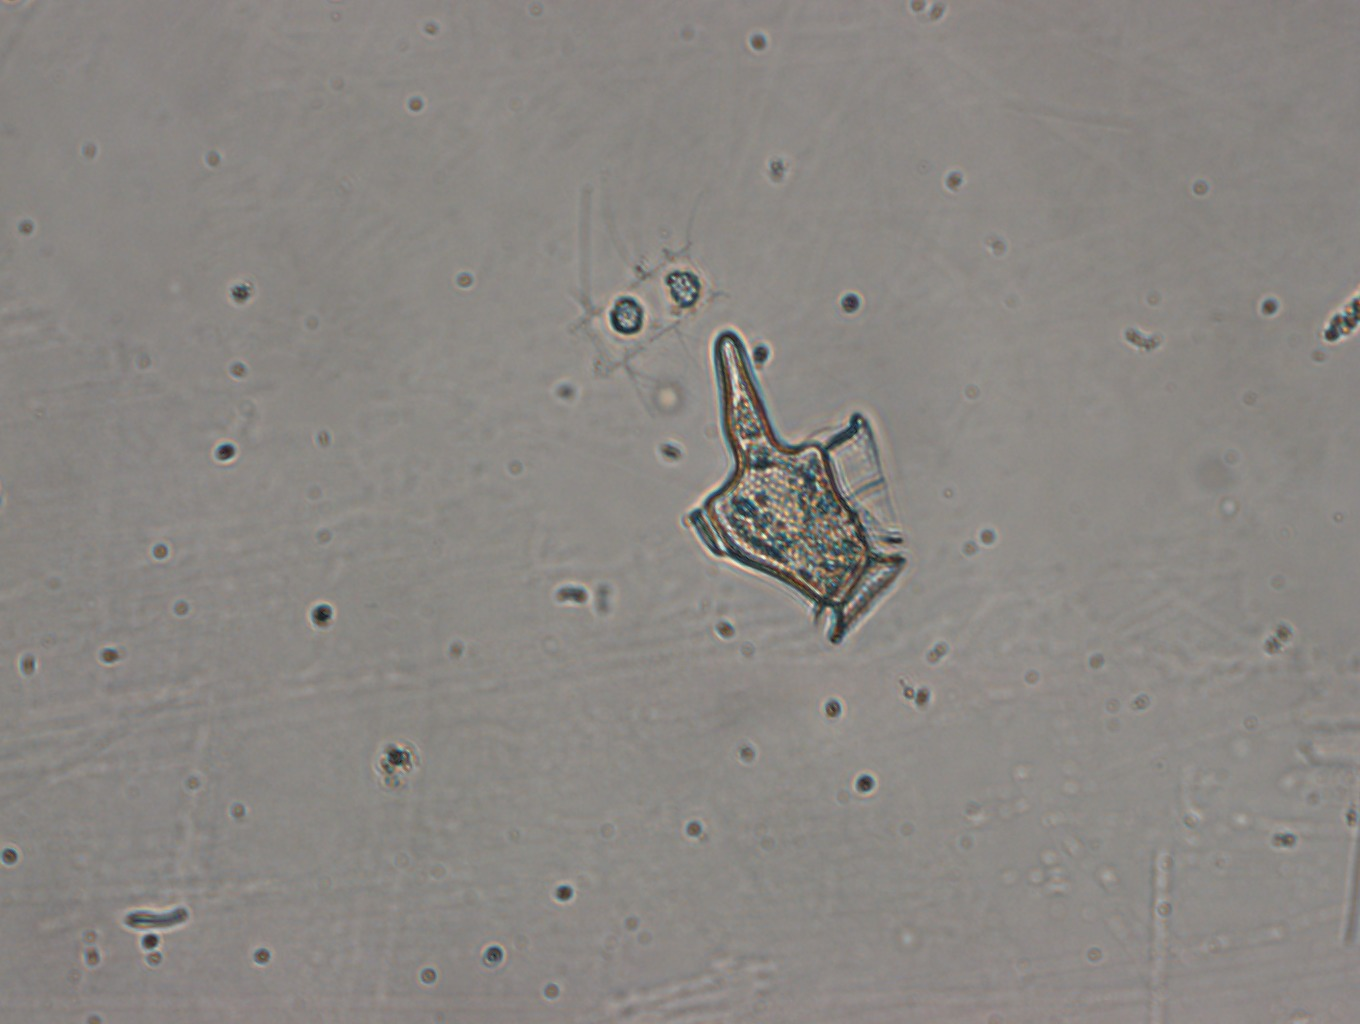chaetoceros: (566, 179, 744, 439)
dinophysis caudata: (686, 326, 907, 645)
